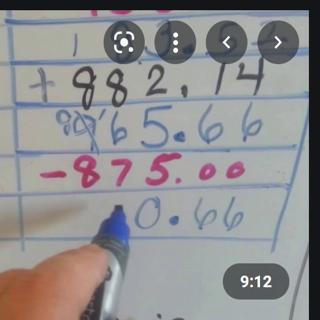.: (170, 129, 190, 144), (178, 82, 191, 98), (168, 213, 180, 226), (174, 176, 182, 186)
0: (133, 198, 161, 230), (198, 161, 216, 182), (225, 161, 246, 179)
1: (212, 60, 226, 96), (69, 31, 80, 58), (254, 274, 261, 290)
2: (146, 65, 169, 97), (263, 274, 275, 288)
4: (239, 56, 264, 96)
5: (142, 104, 173, 149), (146, 152, 179, 187)
6: (198, 103, 225, 146), (242, 101, 264, 144), (193, 196, 217, 232), (224, 196, 244, 233), (111, 108, 130, 144)
7: (111, 157, 132, 190)
8: (73, 66, 98, 109), (73, 155, 101, 190), (106, 69, 126, 105)
9: (239, 271, 249, 290)
